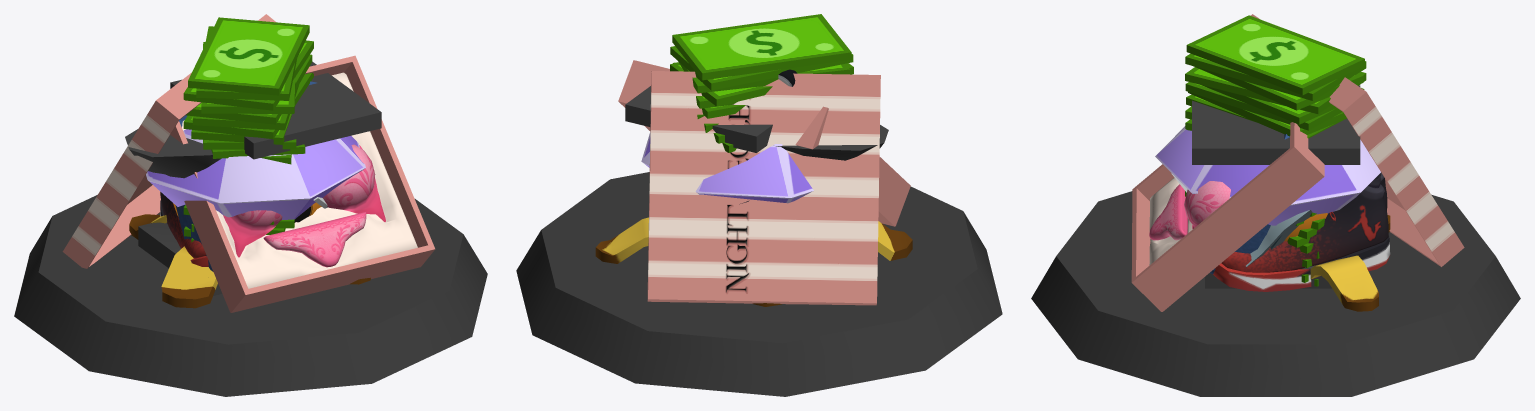
The model's file is items.fbx.
3 renders of one model, left to right at view 1: azimuth 30°, elevation 25°; view 2: azimuth 150°, elevation 25°; view 3: azimuth 270°, elevation 25°, orthographic. The views are drawn at different scales.
Visible parts, largest first — view 1: zemin-platform, clothes-box, money.005, elmas, demir, clothes-box-lid, clothes-bra, banana, clothes-briefs, shoe, jewellery-box; view 2: zemin-platform, clothes-box-lid, money.005, elmas, clothes-box, demir, banana; view 3: zemin-platform, money.005, clothes-box, shoe, clothes-box-lid, demir, elmas, banana, clothes-briefs, clothes-bra, item-wcpaper, jewellery-box.
Boxes of the visible parts, box(x1,y1,x2,y2) form: zemin-platform: box(14, 195, 487, 396); clothes-box: box(170, 55, 435, 312); money.005: box(183, 17, 313, 164); elmas: box(146, 129, 365, 219); demir: box(125, 61, 381, 295); clothes-box-lid: box(62, 14, 275, 268); clothes-bra: box(223, 144, 385, 257); banana: box(129, 214, 370, 308); clothes-briefs: box(263, 212, 366, 267); shoe: box(160, 192, 208, 266); jewellery-box: box(175, 81, 316, 271); zemin-platform: box(516, 172, 1002, 396); clothes-box-lid: box(647, 71, 880, 305); money.005: box(670, 14, 853, 152); elmas: box(641, 132, 813, 203); clothes-box: box(618, 60, 910, 226); demir: box(625, 86, 888, 160); banana: box(595, 217, 912, 306); zemin-platform: box(1031, 191, 1520, 396); money.005: box(1185, 15, 1366, 138); clothes-box: box(1131, 122, 1324, 311); shoe: box(1213, 172, 1390, 291); clothes-box-lid: box(1250, 14, 1464, 266); demir: box(1192, 85, 1360, 288); elmas: box(1155, 126, 1380, 225); banana: box(1310, 215, 1390, 311); clothes-briefs: box(1149, 184, 1187, 240); clothes-bra: box(1184, 181, 1230, 228); item-wcpaper: box(1171, 173, 1312, 267); jewellery-box: box(1210, 134, 1289, 274).
Size of the model in its own units: 6 by 3.49 by 6.31.
